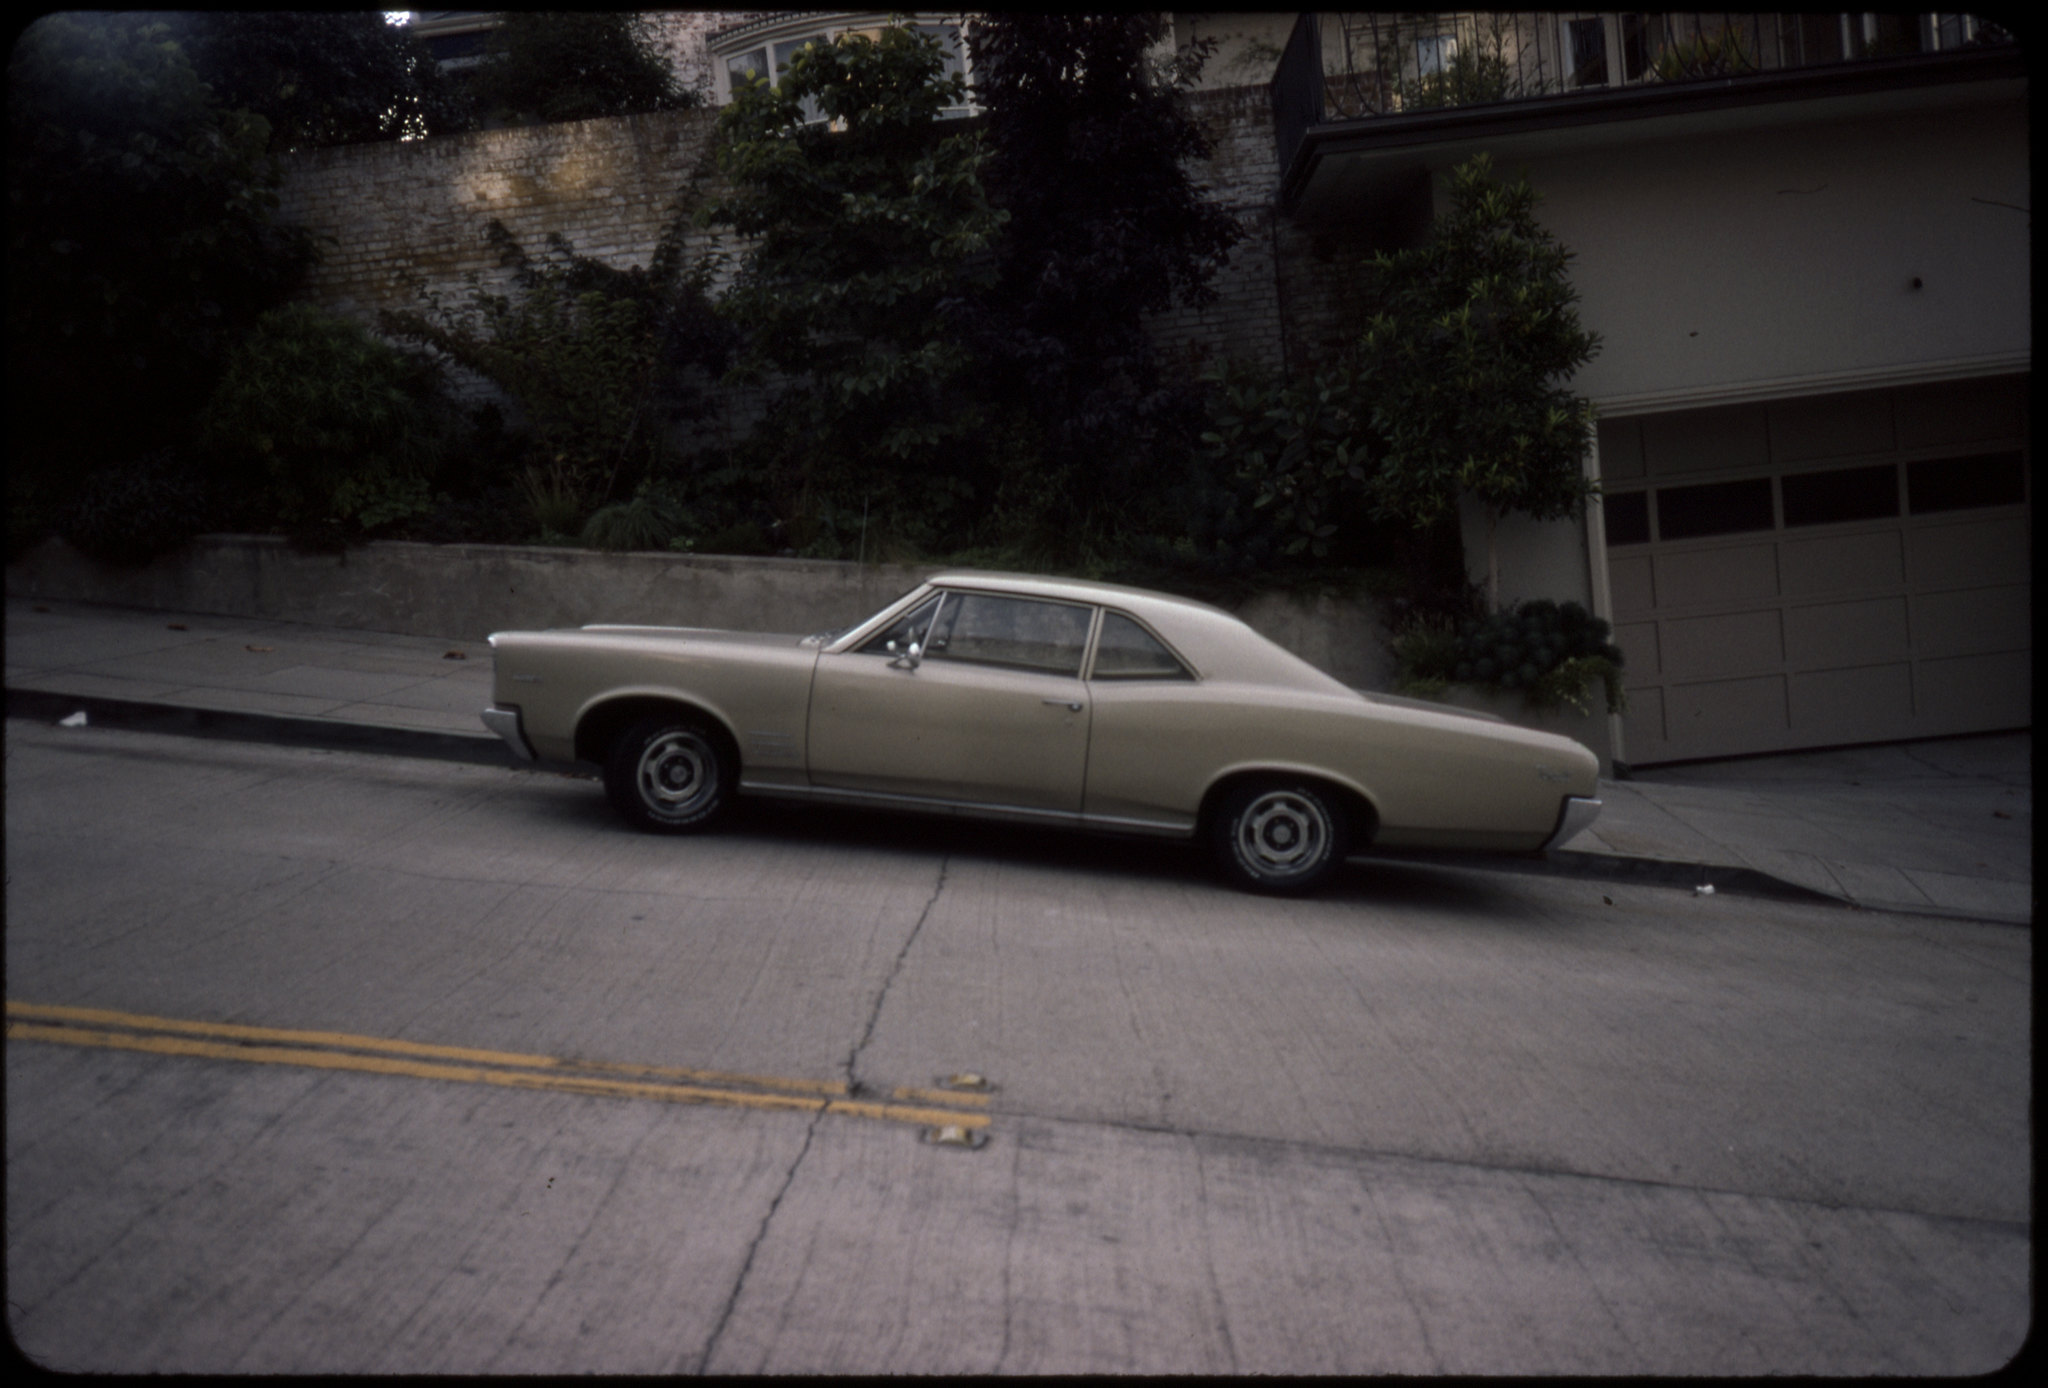Car: (445, 548, 1637, 894)
